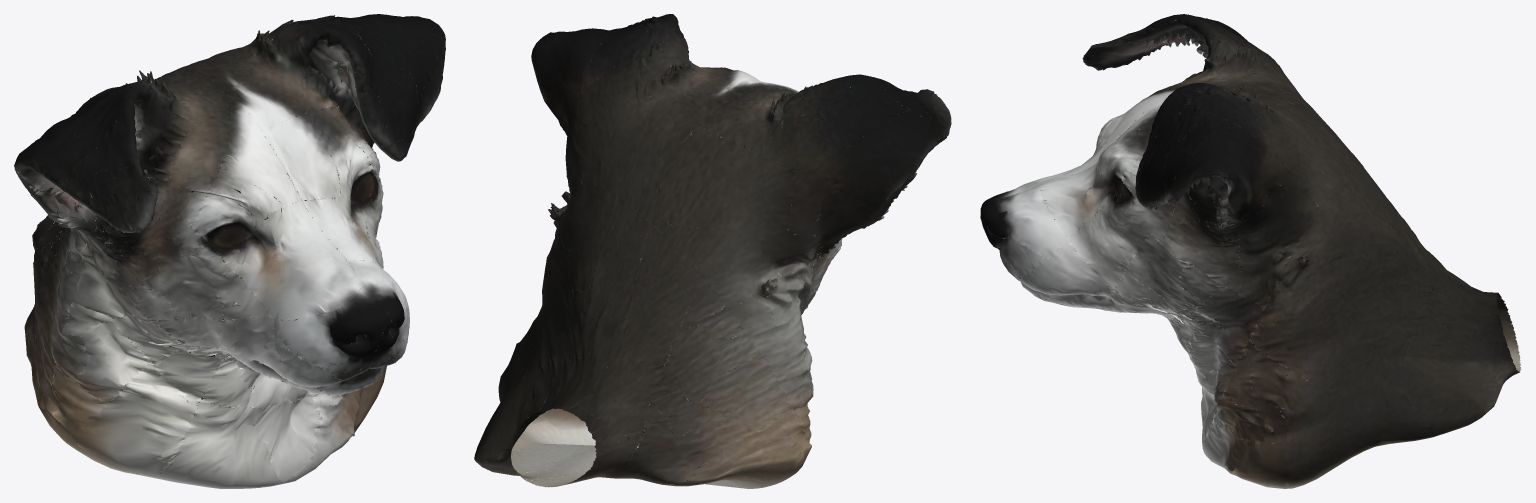
File: cane_web.glb
3 views of the same model, side by side, from view 1: azimuth 30°, elevation 25°; view 2: azimuth 150°, elevation 25°; view 3: azimuth 270°, elevation 25° (orthographic). The views are drawn at different scales.
Visible parts, largest first — view 1: CANE_WEB; view 2: CANE_WEB; view 3: CANE_WEB.
Boxes of the visible parts, bbox=[...] form: CANE_WEB: bbox=[14, 14, 445, 488]; CANE_WEB: bbox=[474, 14, 951, 488]; CANE_WEB: bbox=[980, 14, 1520, 488].
Size of the model in its own units: 1.29 by 1.36 by 1.71.
Materials: 1 (1 with a texture image).
